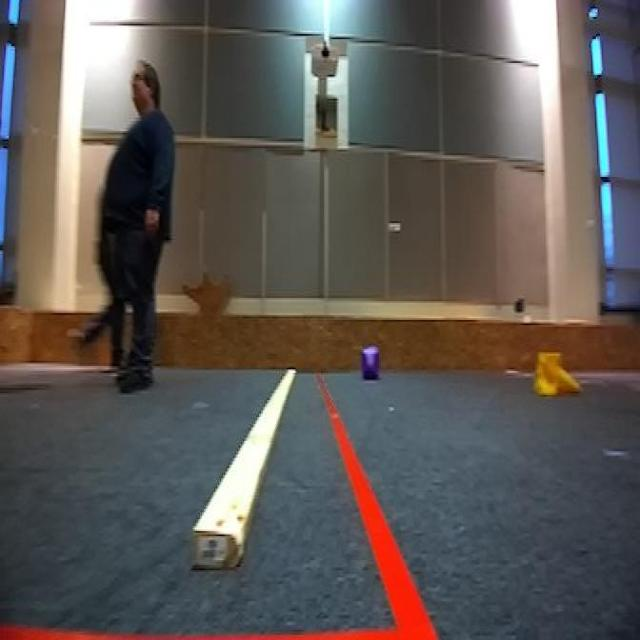frc_cone: (534, 347, 578, 397)
frc_cube: (360, 346, 380, 381)
